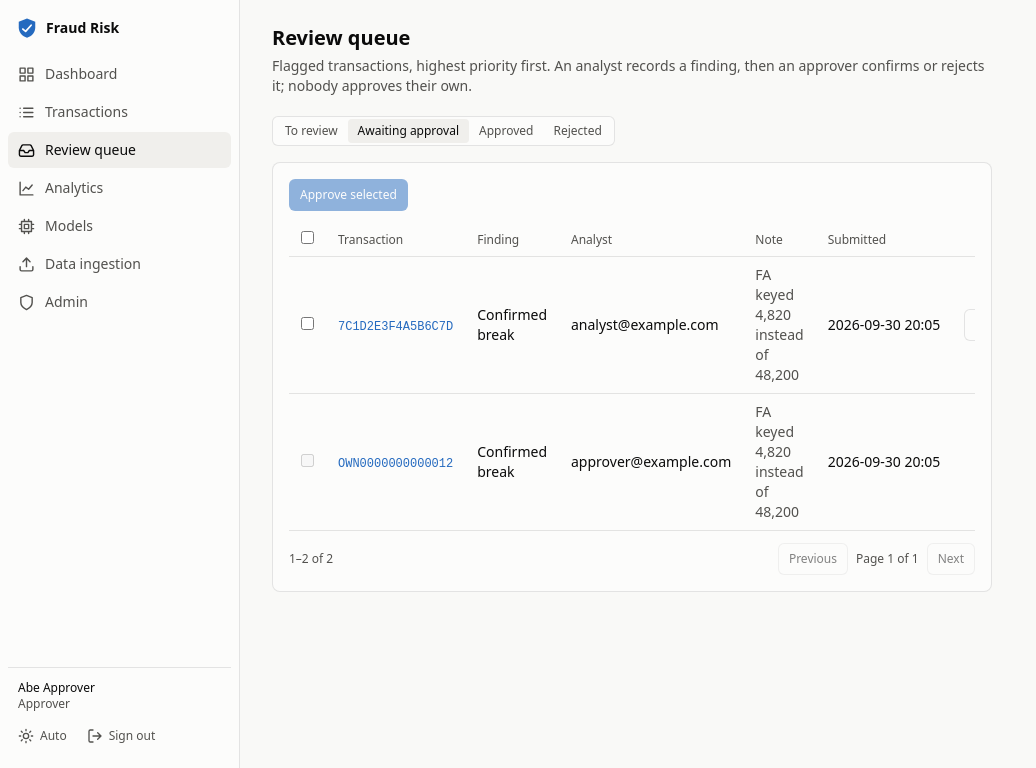
lets an approver bulk-approve other people's findings but never their own
The image size is (1036, 768).
Expected: the checkbox named "Select review 12" is disabled, [301,454,314,467]
Click the checkbox named "Select all you can approve" at (308, 238), box [301,231,314,244]
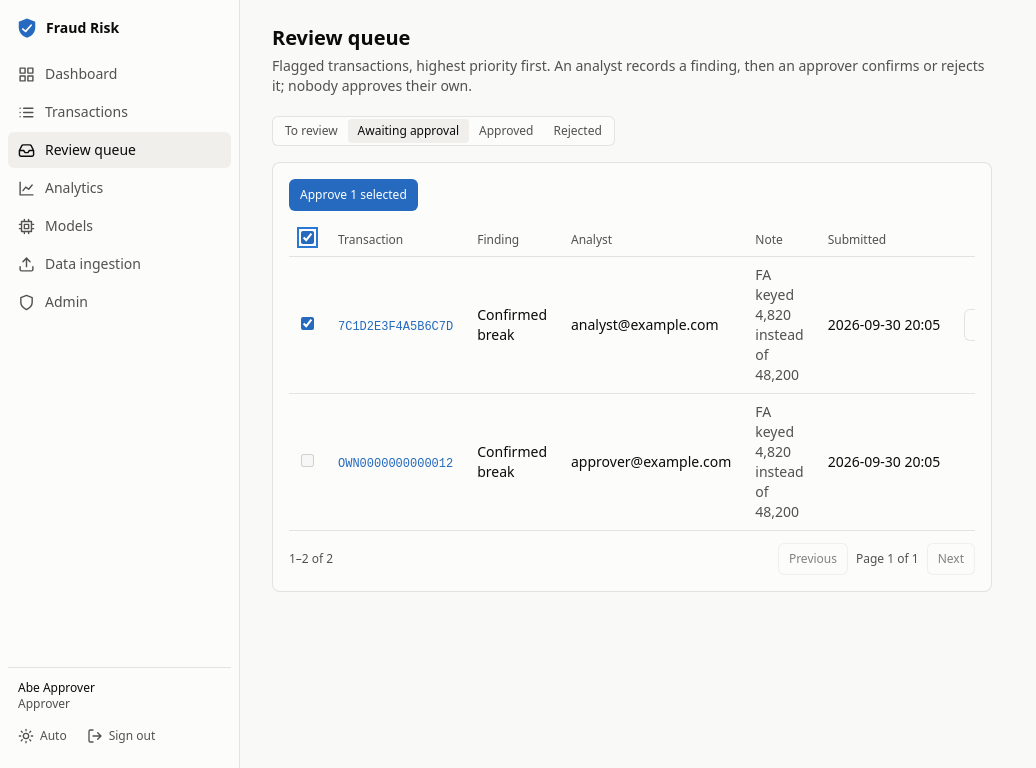
Expected: the checkbox named "Select review 12" is not checked, [301,454,314,467]
Now the checkbox named "Select review 11" is checked, box [301,317,314,330]
Click the button "Approve 1 selected" at (353, 195), box [289,179,418,211]
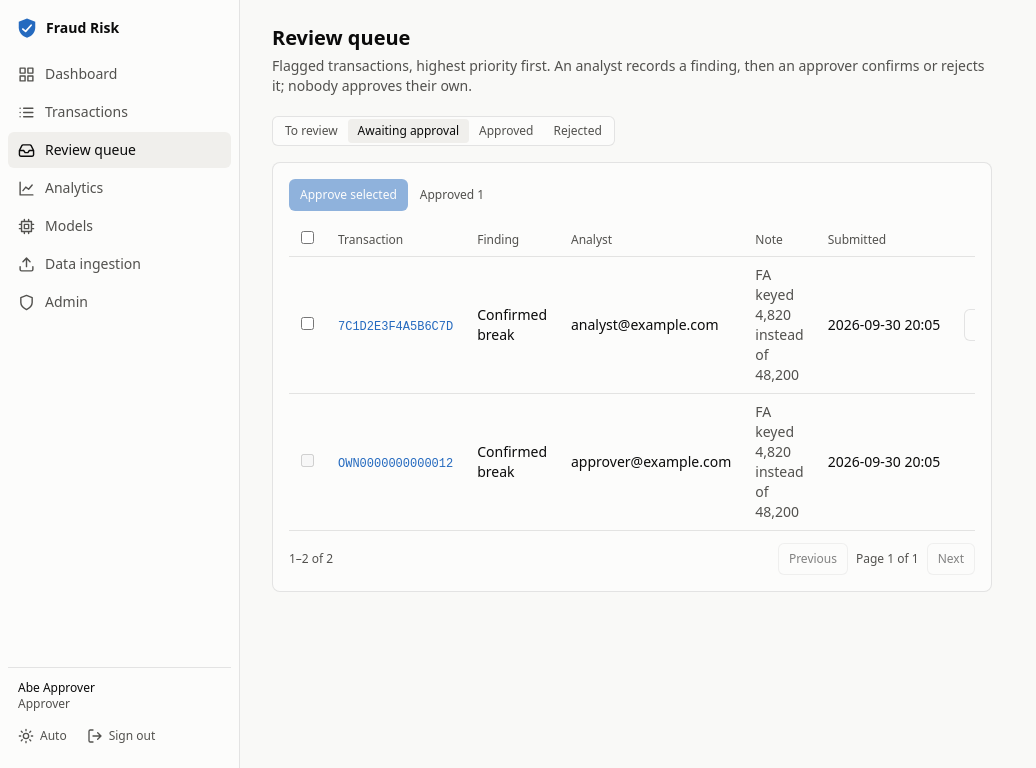
Now the text "Approved 1" is shown, box [420,187,484,203]
